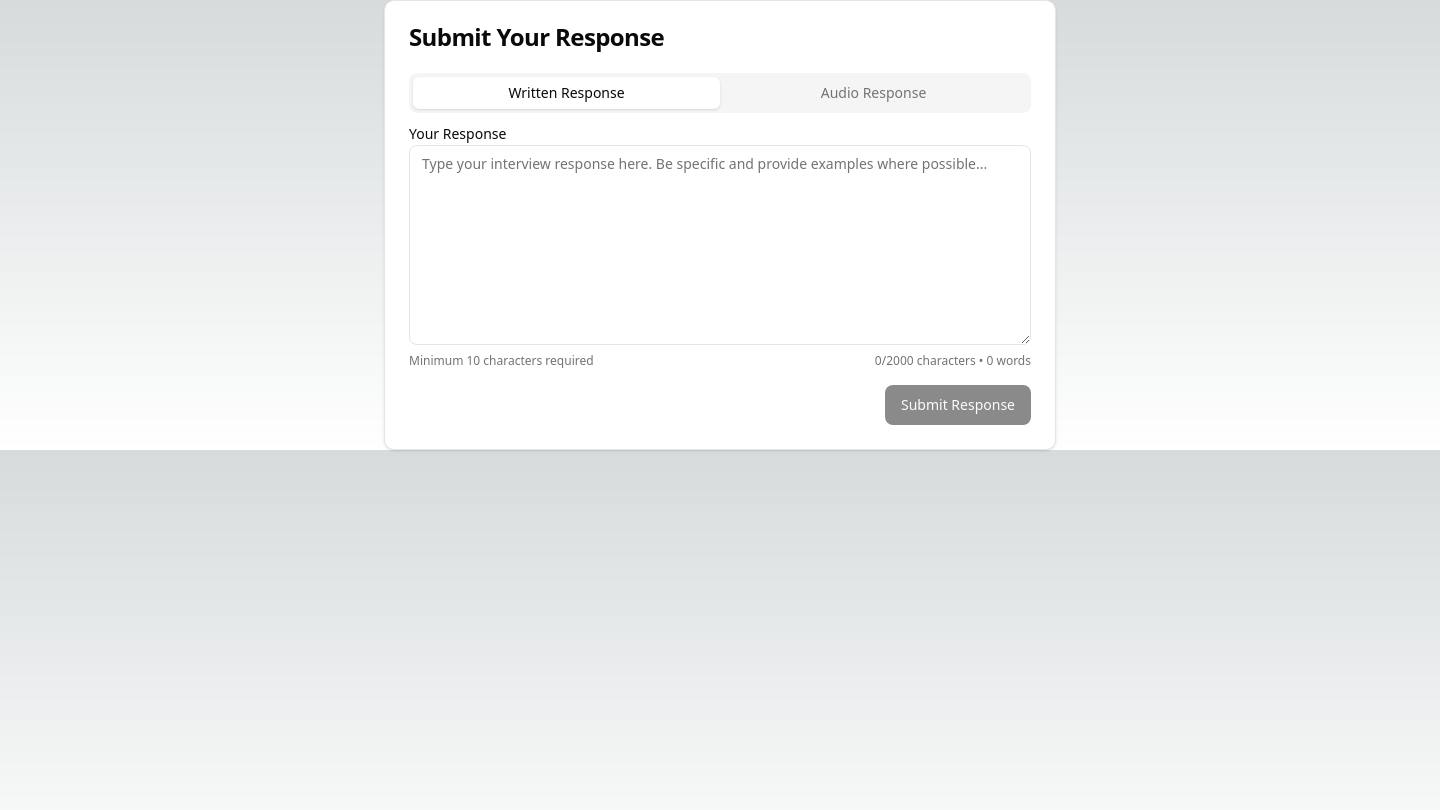
ResponseSubmission › should show character count and word count
The width and height of the screenshot is (1440, 810).
Replace the text in the text box with placeholder "Type your interview response" with "This is a test response with multiple words" at (720, 245), box [409,145,1031,345]
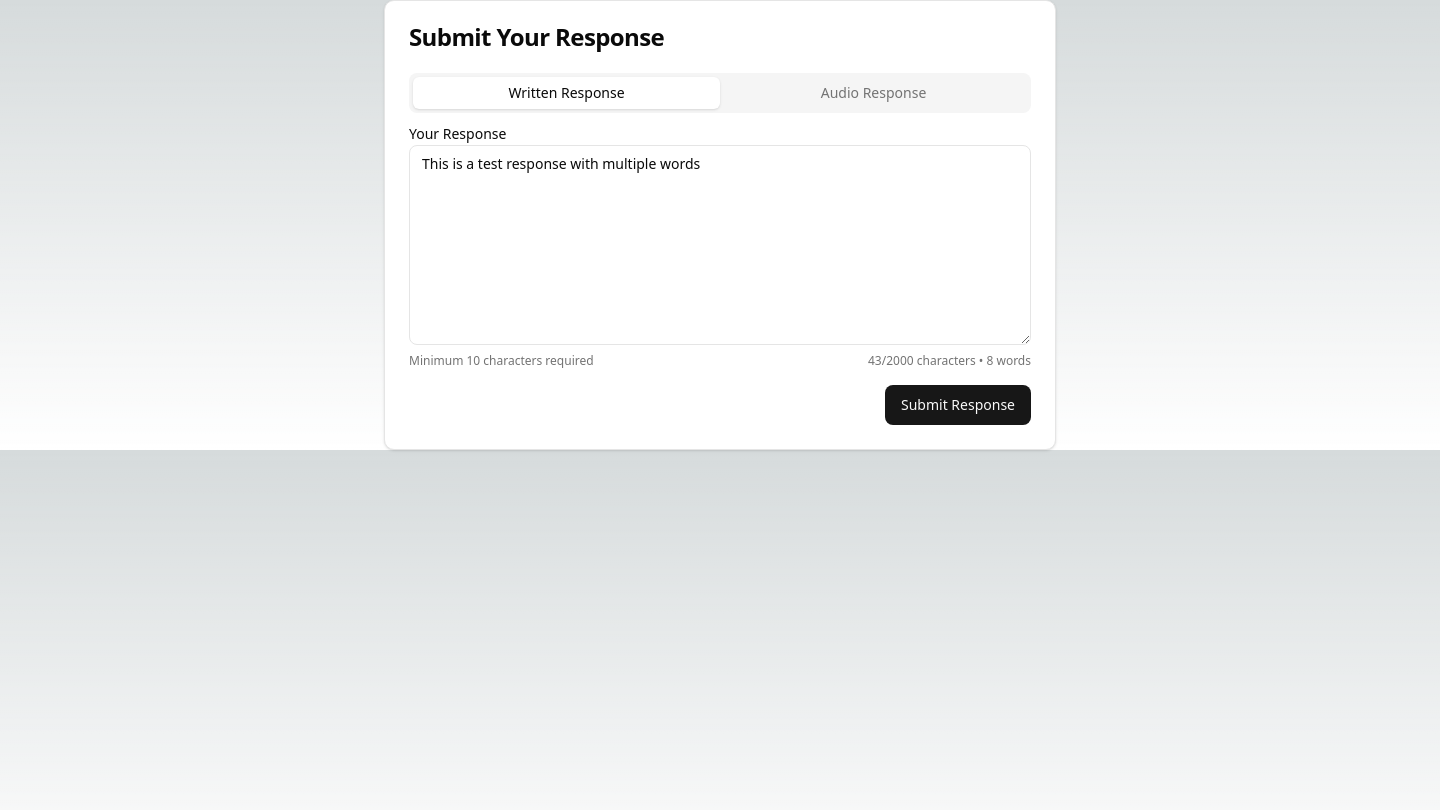
Check: the text "43/2000 characters • 8 words" is shown, box [868,353,1031,369]
